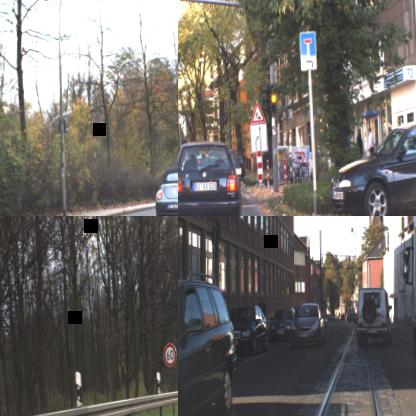CONSTRUCTION: (250, 100, 265, 123)
speed limit 60: (162, 342, 176, 367)
